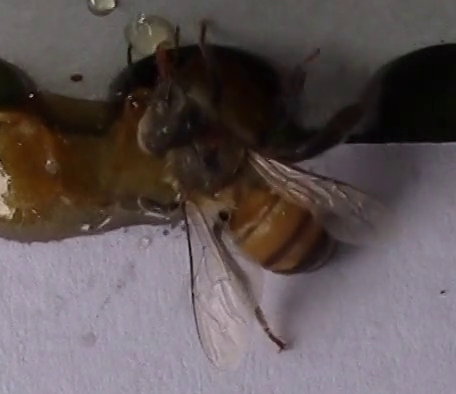Healthy: (132, 20, 393, 368)
